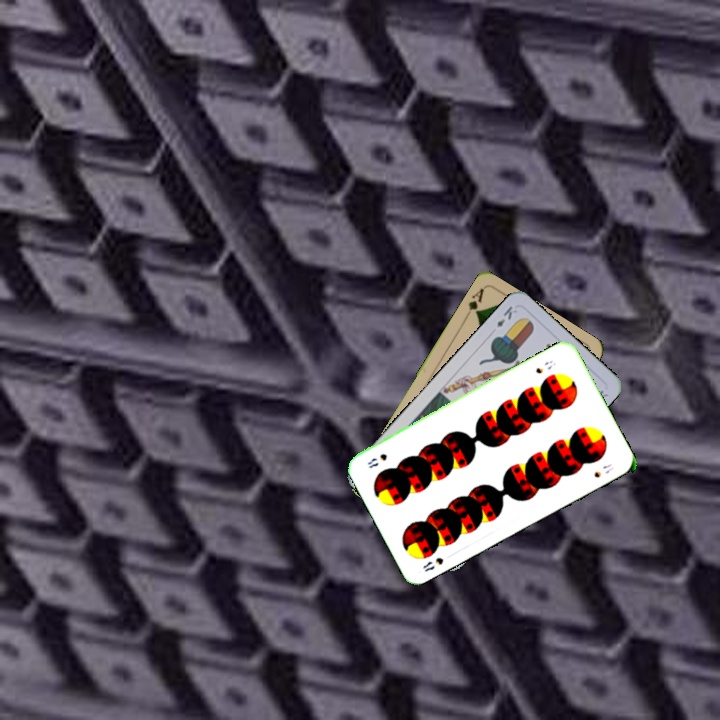EK: (492, 302, 520, 330)
GA: (460, 284, 486, 322)
S8: (419, 553, 446, 574), (532, 356, 558, 376)
